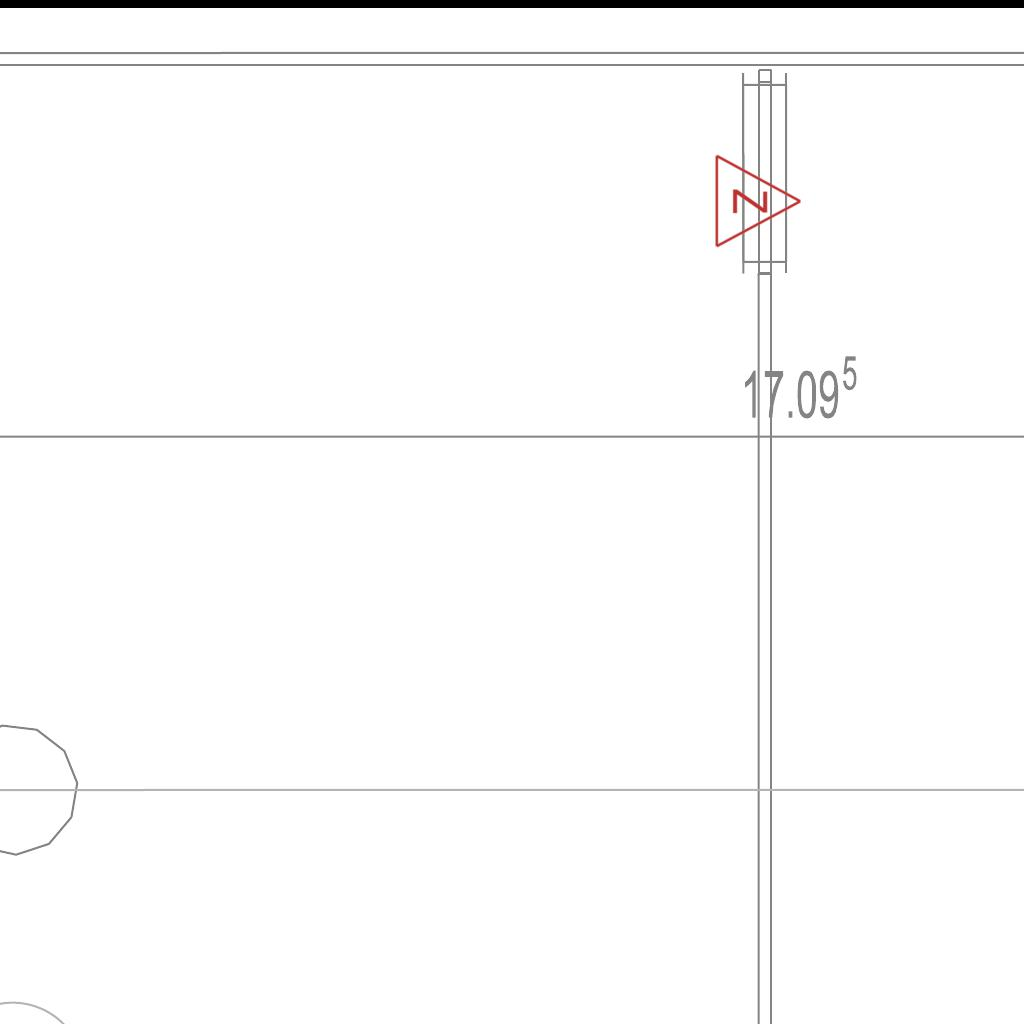Zimmersignalleuchte: (708, 151, 808, 249)
